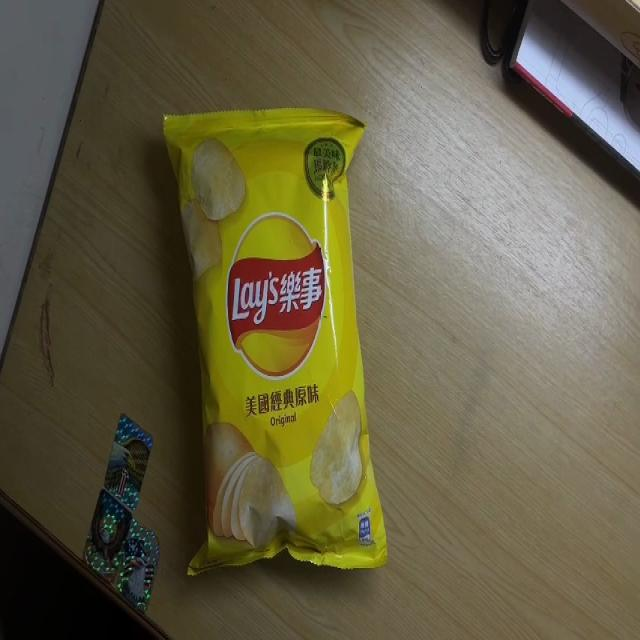Lay-s-original: (162, 111, 391, 574)
